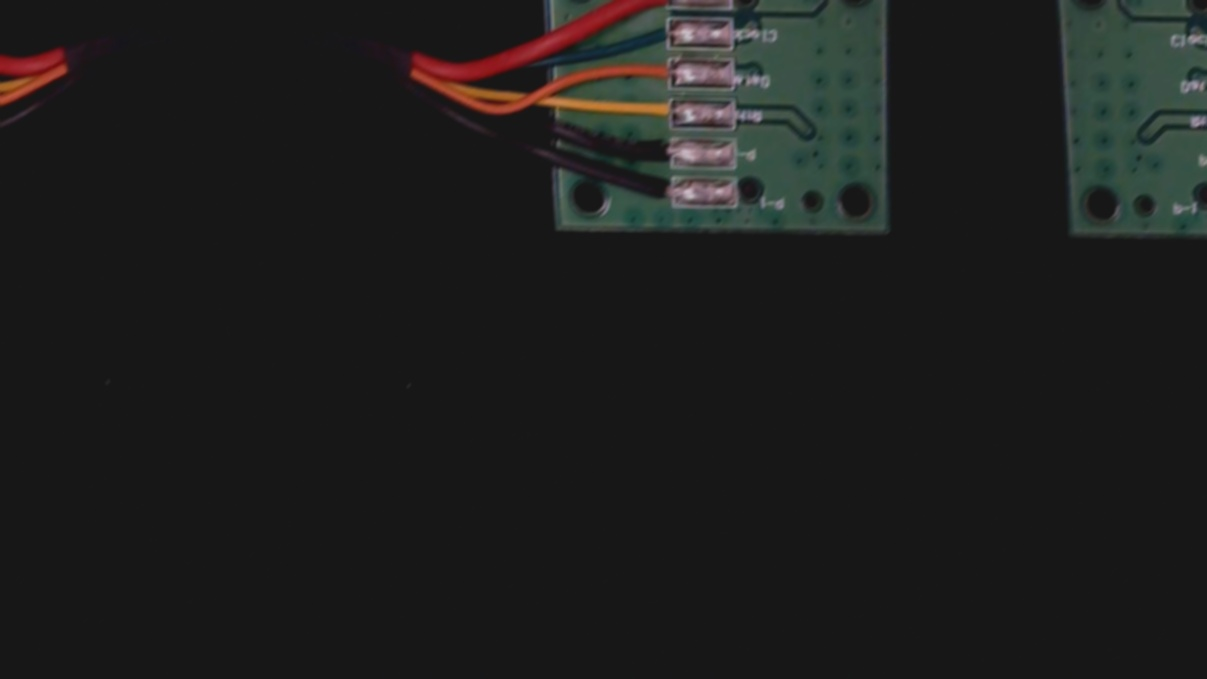Black: (618, 135, 688, 167)
Black1: (618, 177, 688, 211)
Green: (622, 16, 687, 51)
Orange: (623, 57, 688, 89)
Red: (613, 0, 686, 10)
Yellow: (620, 99, 688, 127)
